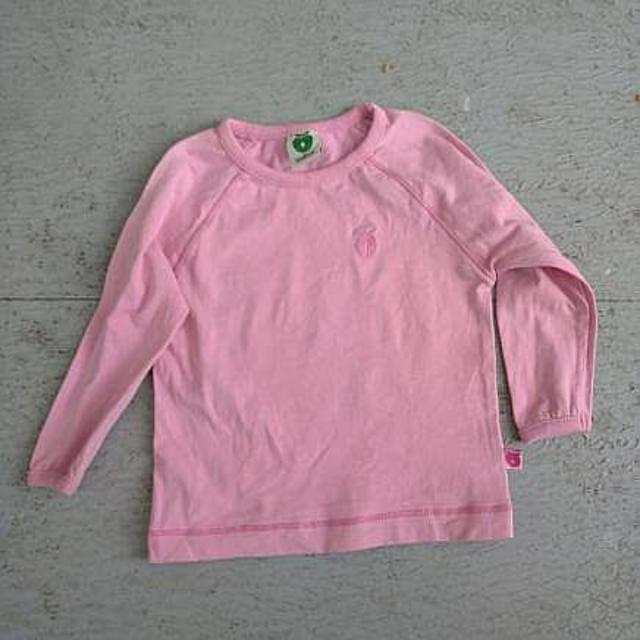SHIRT: (22, 98, 628, 571)
